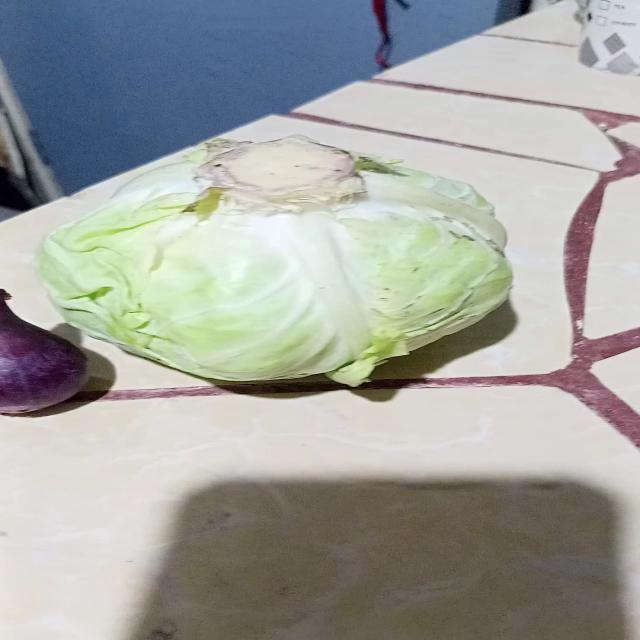cabbage: (39, 144, 513, 390)
onion: (0, 289, 89, 415)
